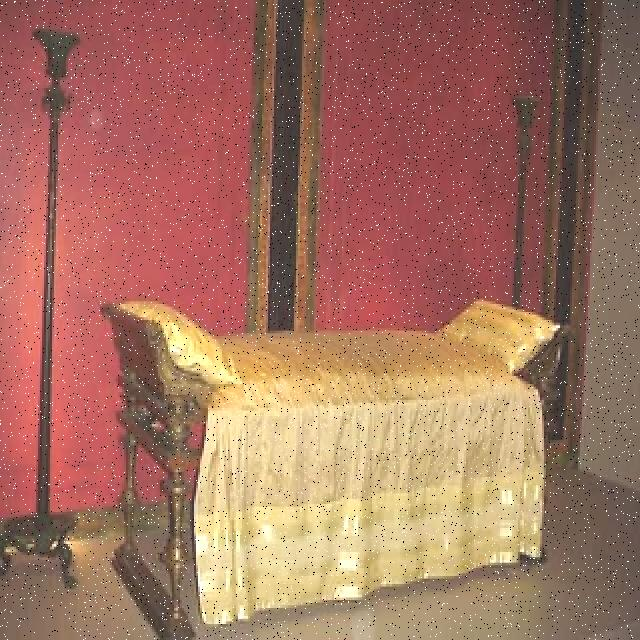bed: (106, 288, 562, 593)
